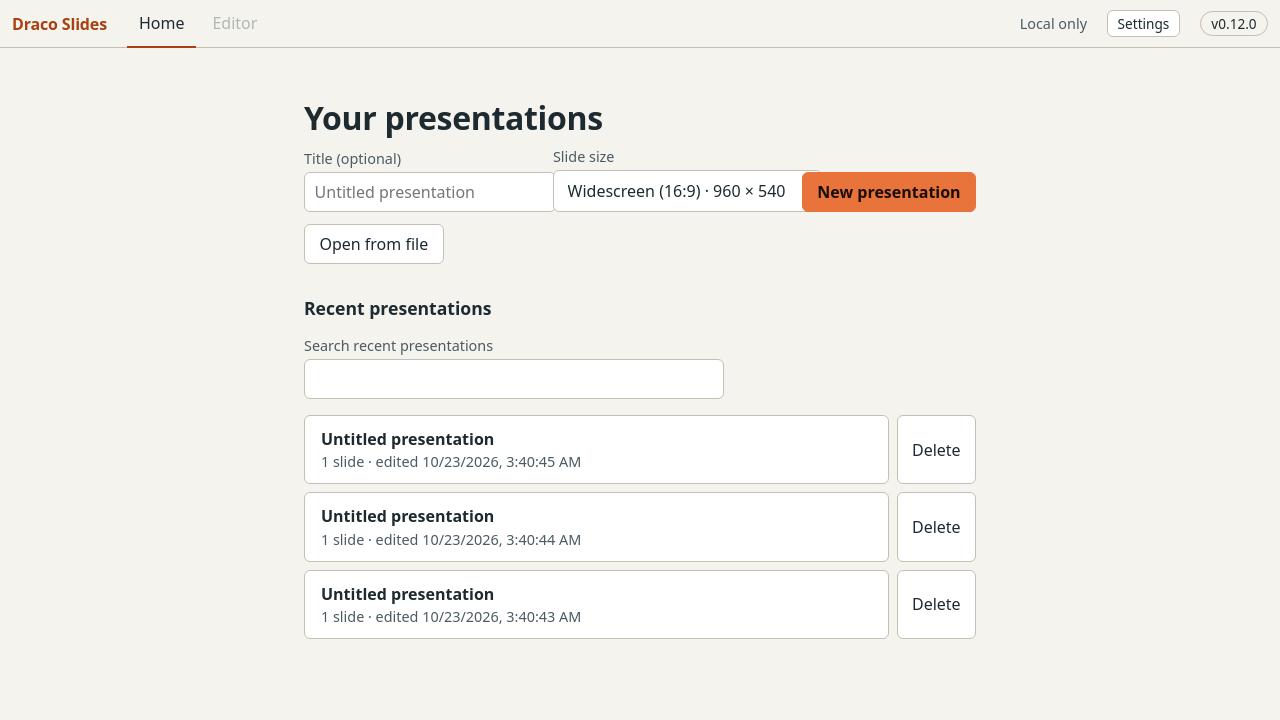
it: editing text in place › Escape finishes editing, keeps the object selected and returns focus to the canvas
Click the button "New presentation" at (889,192), box [802,172,976,212]
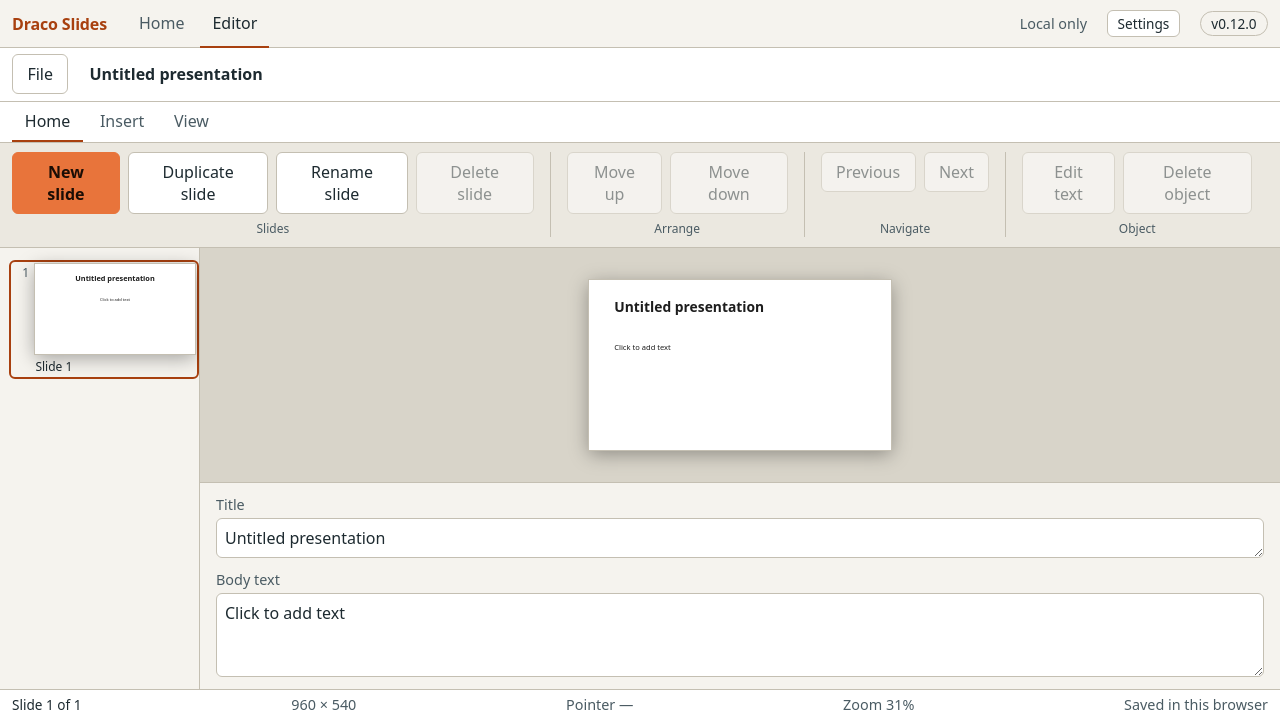
Click the tab "Insert" at (122,122), box [87,102,157,142]
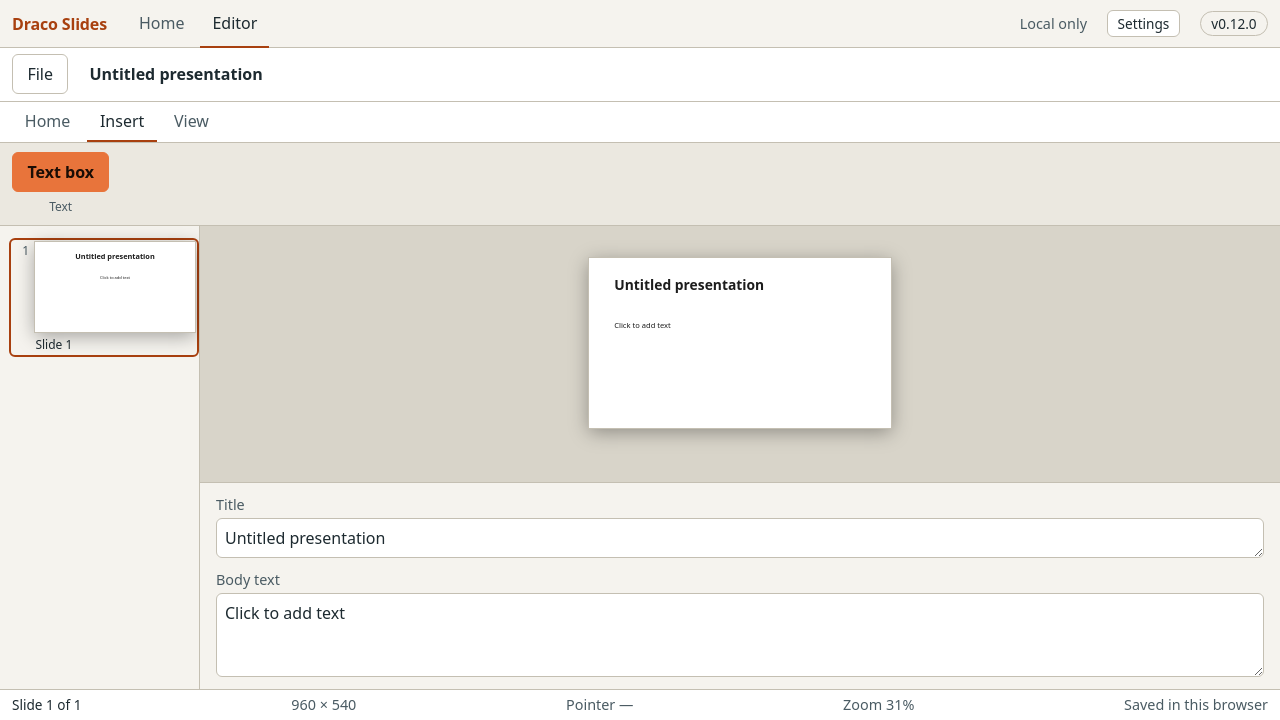
Click the button "Text box" at (61,172), box [12,152,109,192]
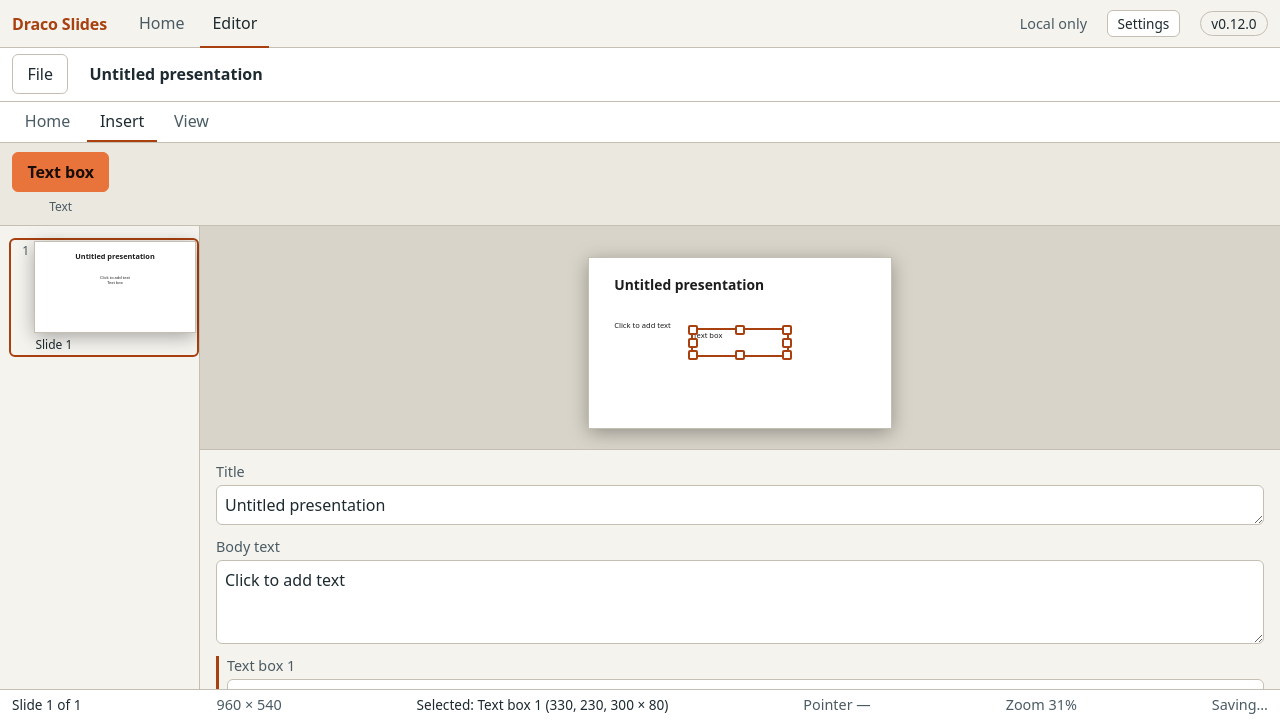
Double-click the button named "Text box 1" at (740,343), box [693,330,787,355]
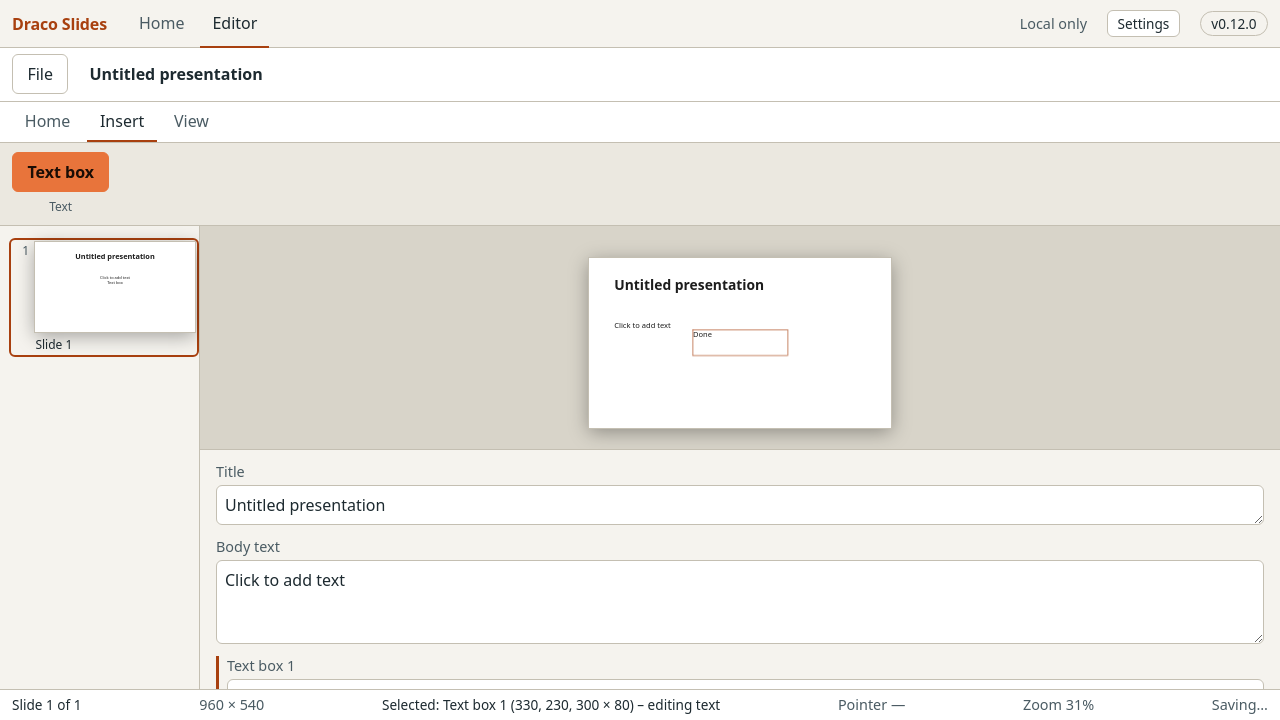
Clear the field named "Editing Text box 1" at (702,334), box [693,329,712,339]
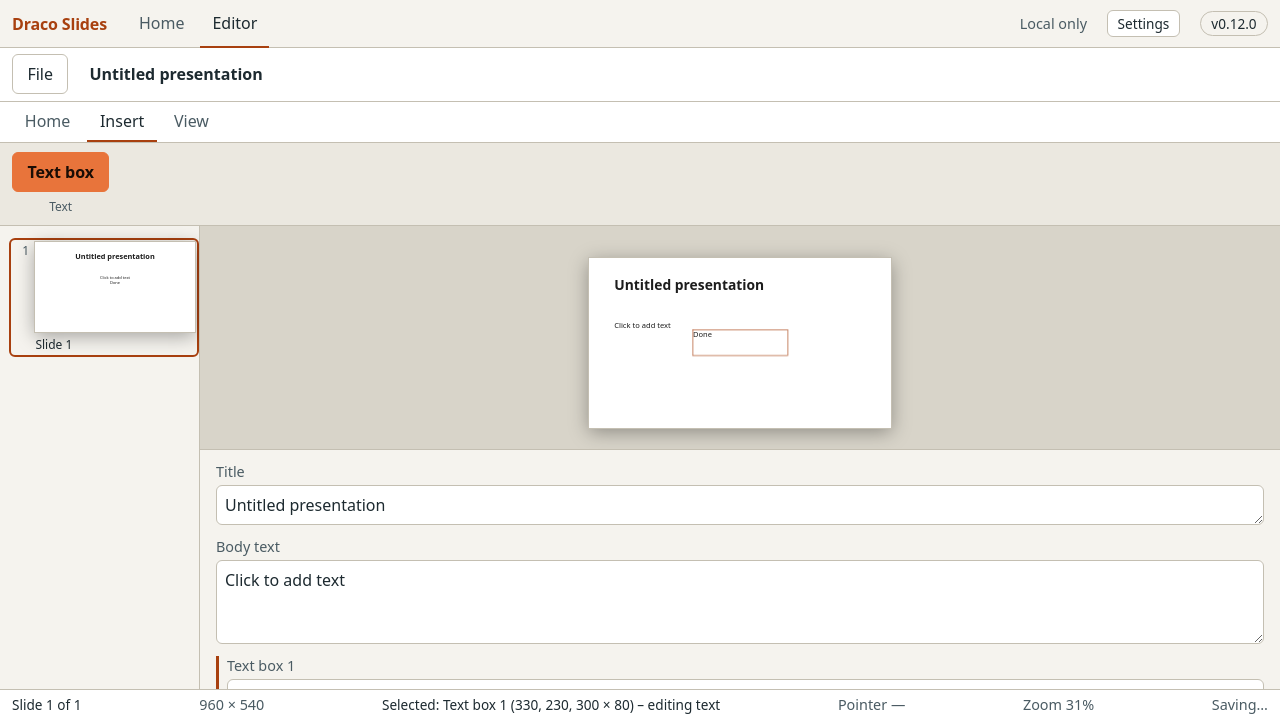
Press Escape in the field named "Editing Text box 1", box [693,329,712,339]
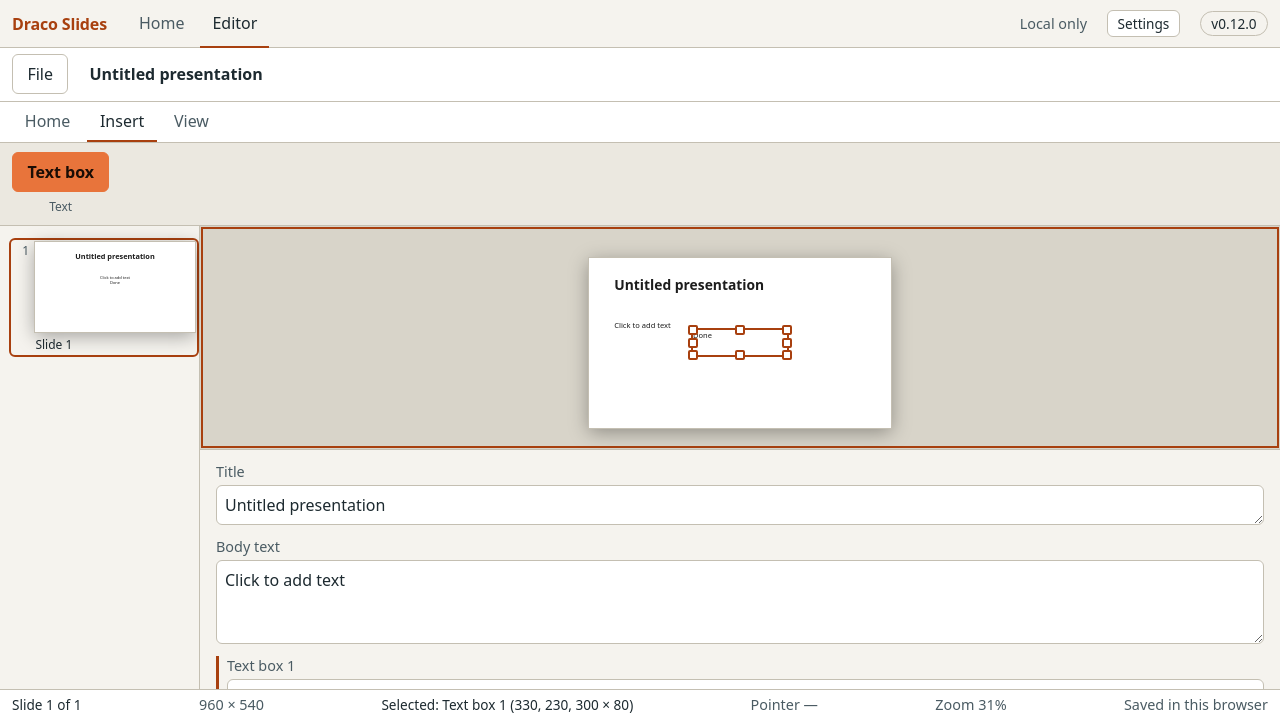
expect the text "Selected: Text box 1 (330, 230, 300 × 80)" is shown: met, box [381,695,633,714]
